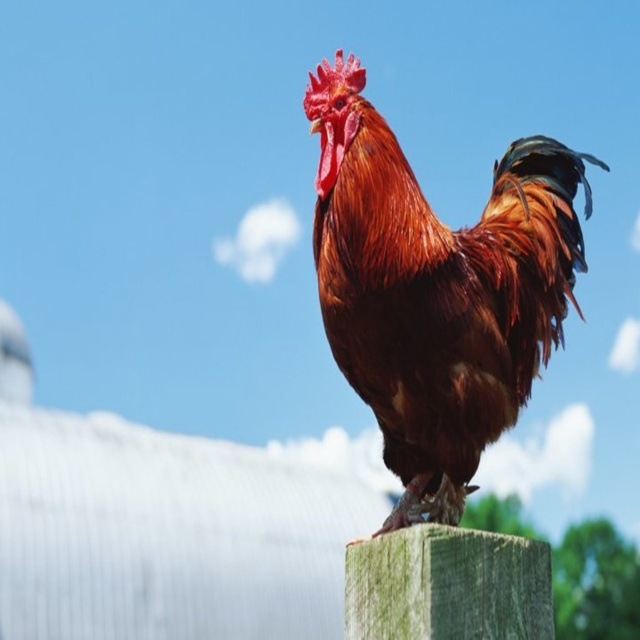Chicken: (292, 40, 607, 530)
